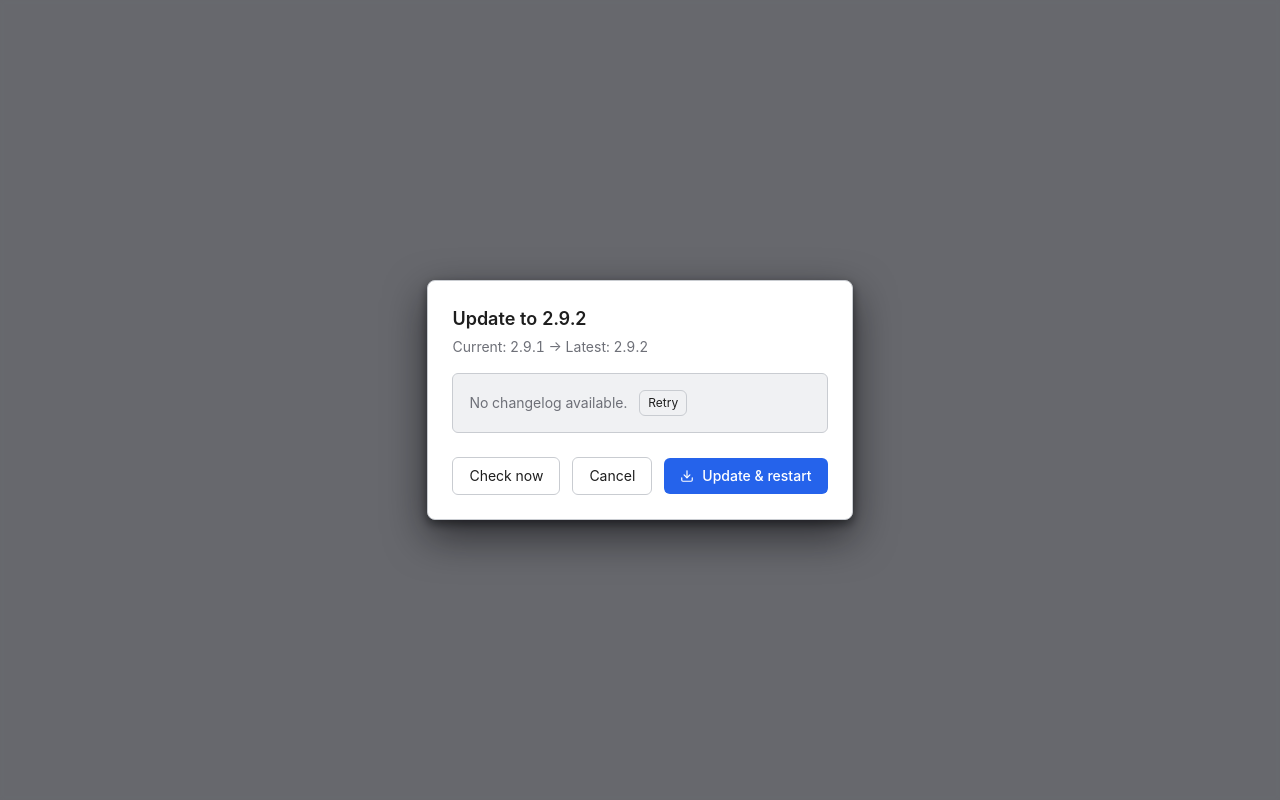
Test case: UpdateDialog empty-changelog recovery › re-fetches the changelog on "Check now", not just the release status
Expected: the button "Retry" is shown, top-left (639, 390), bottom-right (687, 416)
Click the button "Check now": (506, 476) top-left (452, 457), bottom-right (560, 495)
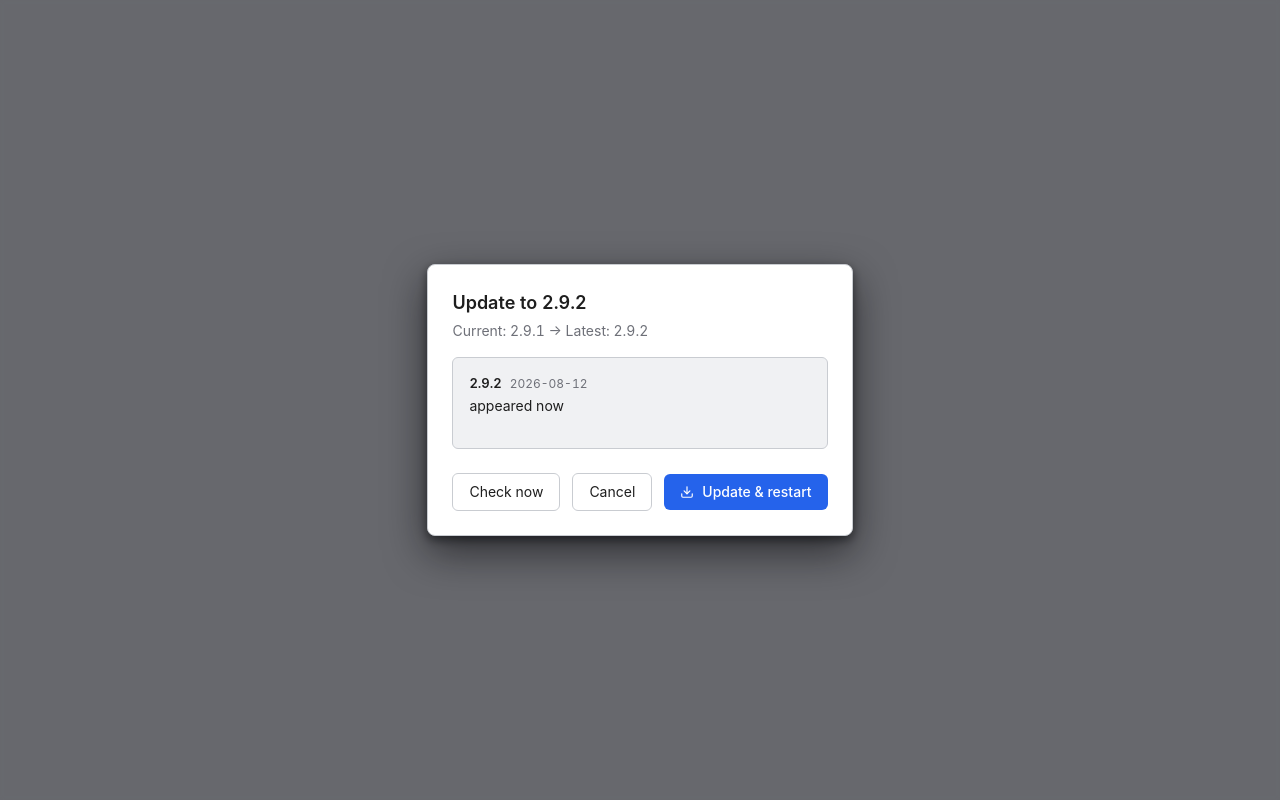
Expected: the list item "appeared now" is shown, top-left (469, 397), bottom-right (564, 414)
